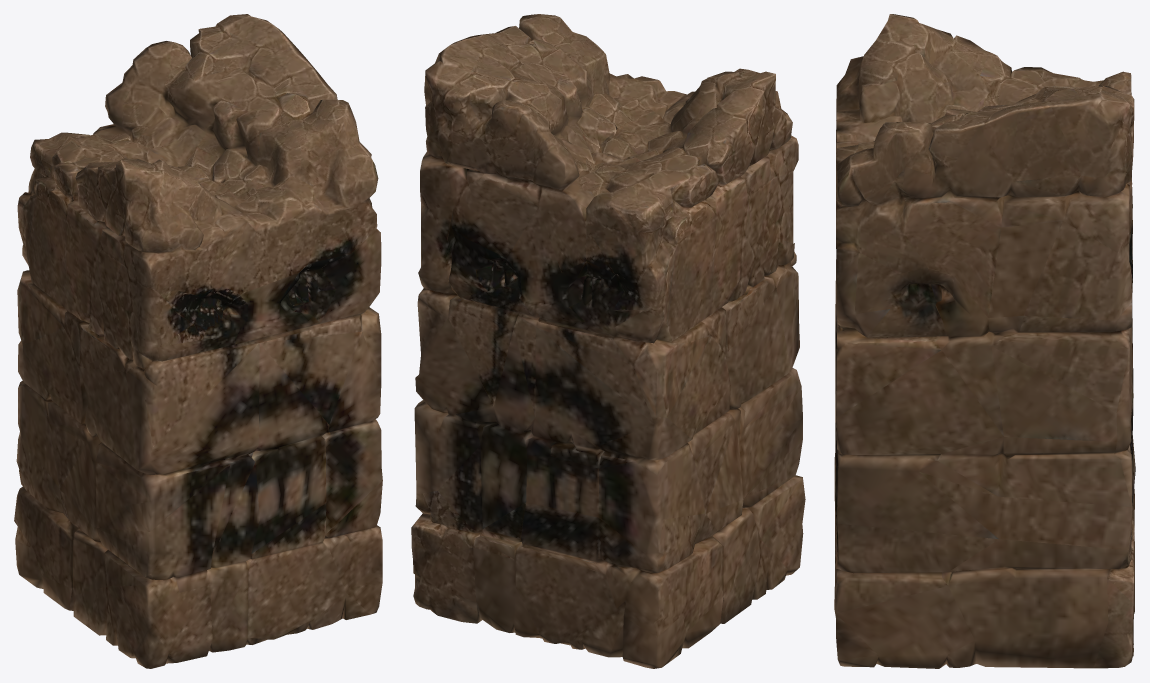
The model's file is shrine-pillar.glb.
3 views of the same model, side by side, from view 1: azimuth 30°, elevation 25°; view 2: azimuth 150°, elevation 25°; view 3: azimuth 270°, elevation 25° (orthographic). The views are drawn at different scales.
Size of the model in its own units: 0.4604 by 0.9536 by 0.4614.
Materials: 1 (1 with a texture image).
